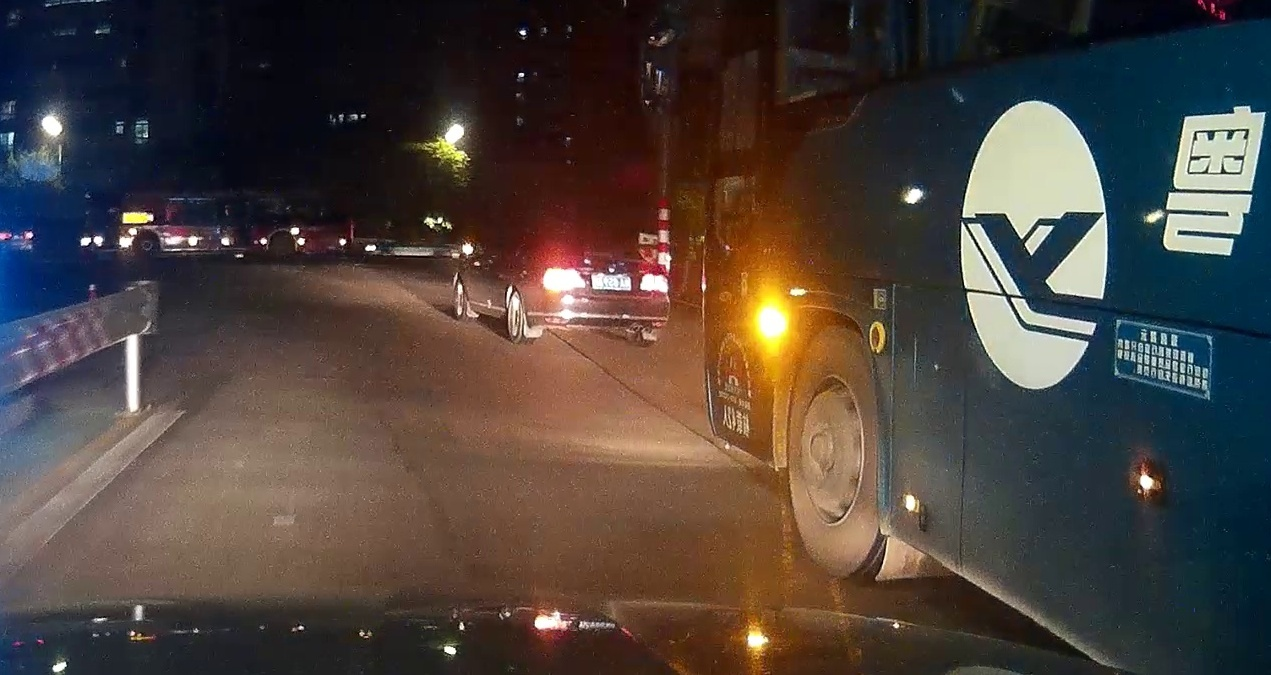L_light: (542, 266, 586, 292)
R_light: (639, 273, 669, 294)
T_light: (591, 239, 606, 243)
night-left: (532, 237, 669, 348)
